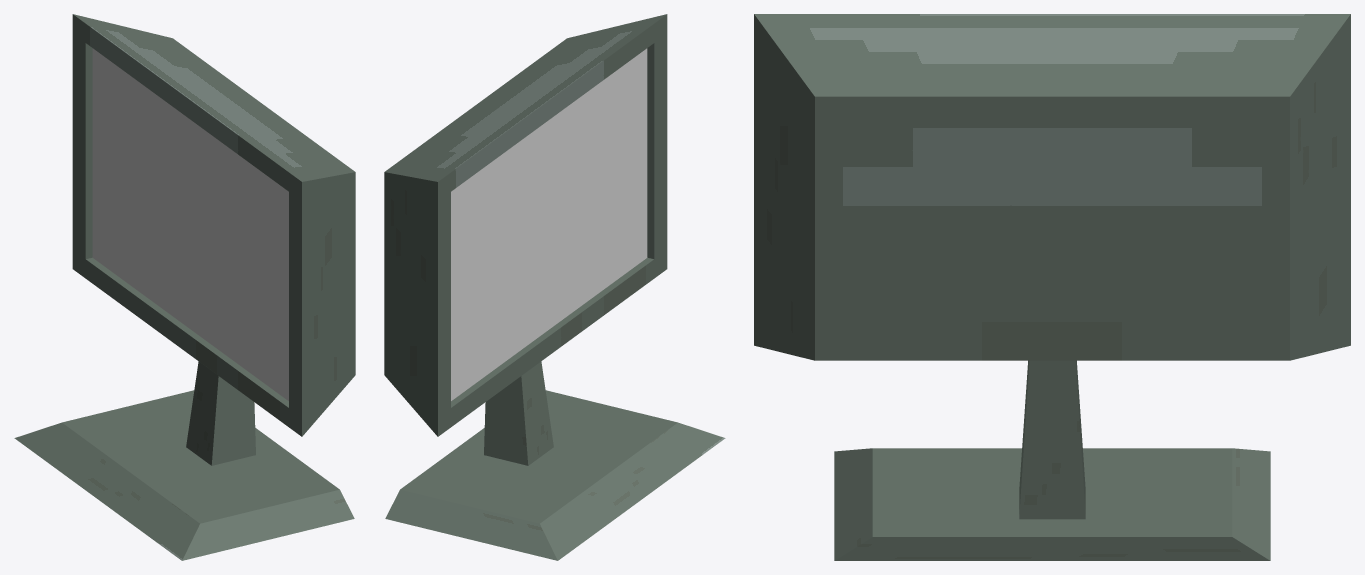
Rendered from Monitor1.fbx.
3 views of the same model, side by side, from view 1: azimuth 30°, elevation 25°; view 2: azimuth 150°, elevation 25°; view 3: azimuth 270°, elevation 25° (orthographic). The views are drawn at different scales.
Parts seen in each view (by area): view 1: RenderPlane, Cube, Stand; view 2: RenderPlane, Cube, Stand; view 3: Cube, Stand.
Boxes of the visible parts, bbox=[...] form: RenderPlane: bbox=[92, 48, 288, 400]; Cube: bbox=[72, 14, 355, 436]; Stand: bbox=[14, 361, 354, 560]; RenderPlane: bbox=[451, 48, 647, 400]; Cube: bbox=[384, 14, 667, 436]; Stand: bbox=[385, 361, 725, 560]; Cube: bbox=[754, 14, 1350, 360]; Stand: bbox=[834, 360, 1270, 560].
Size of the model in its own units: 64.96 by 137 by 150.
